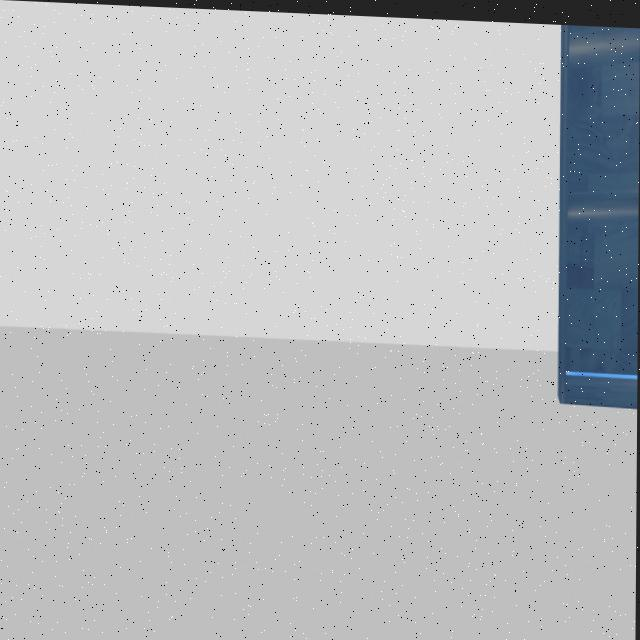shelf: (528, 19, 640, 433)
